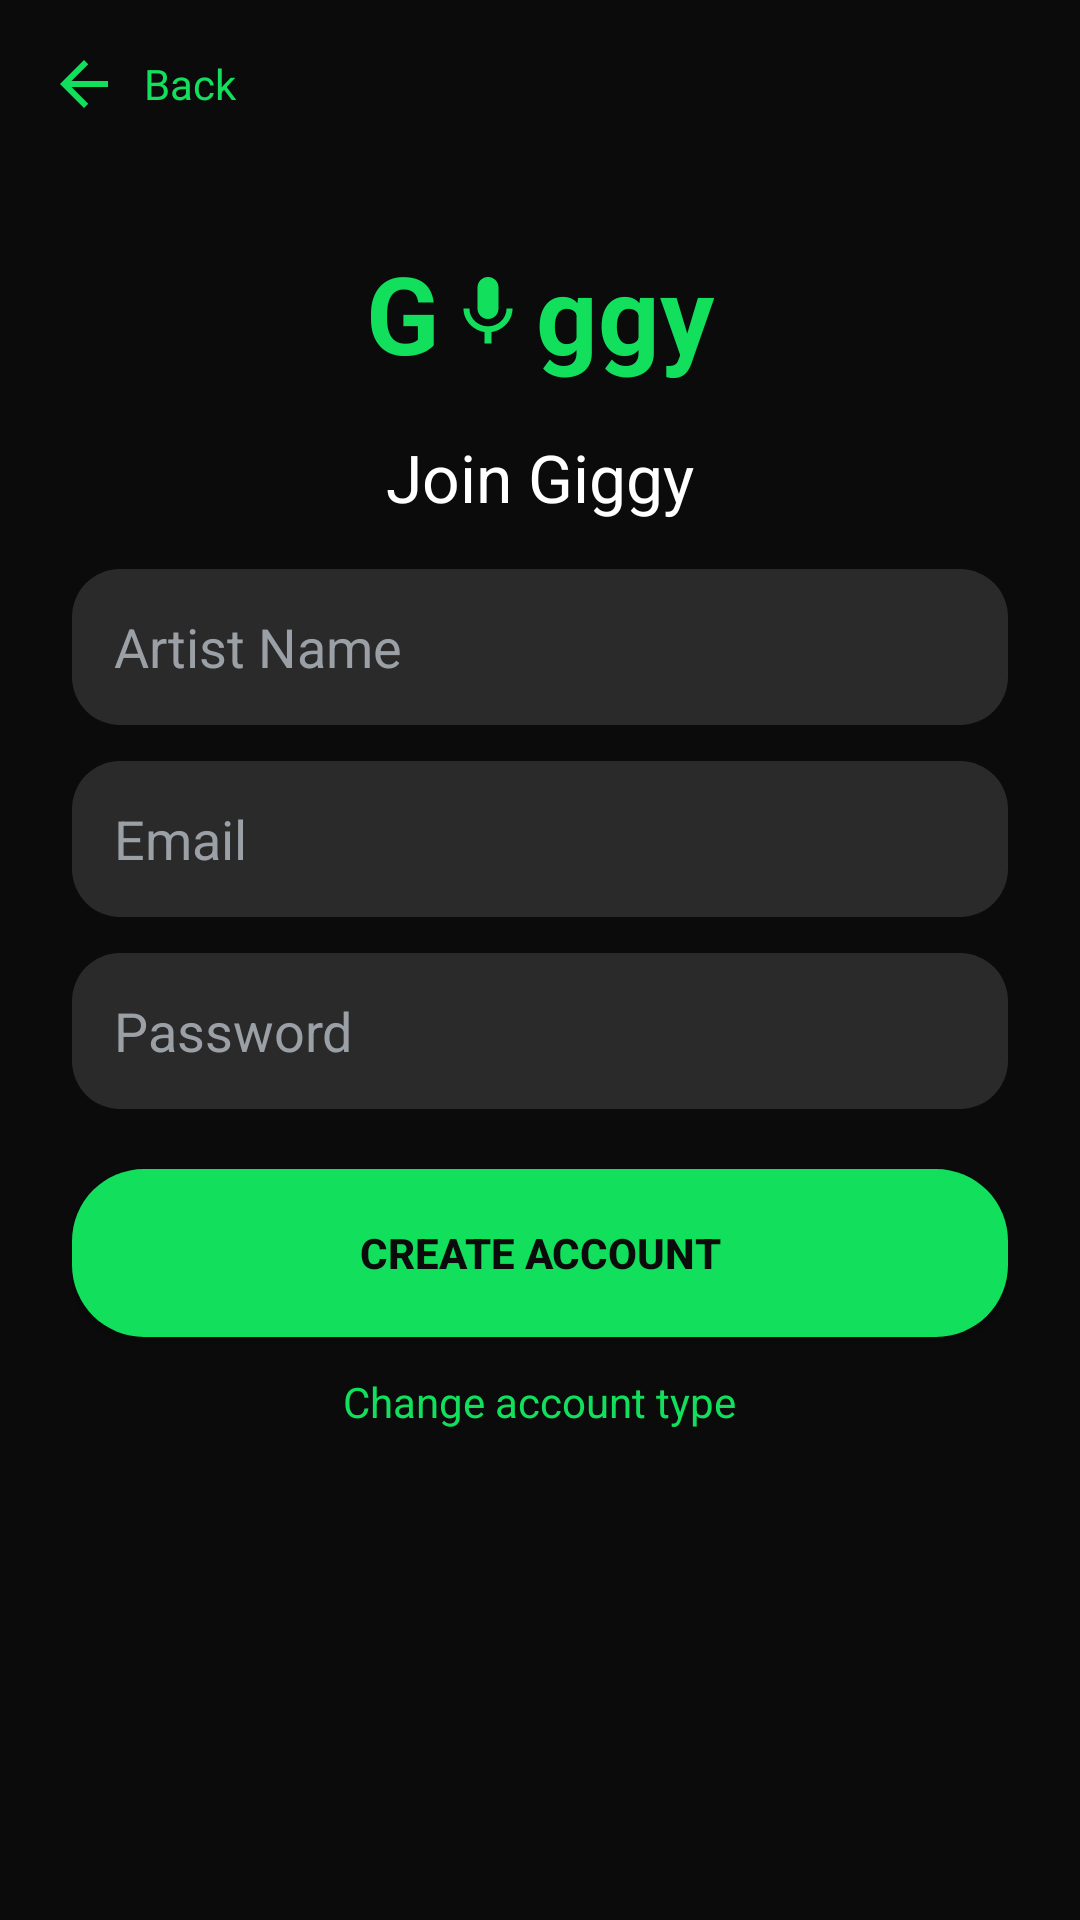

Icon bounding boxes for this 1080*1920 phone screenshot, format [x1=x1, y1=y1, x2=x2, y2=y2]:
mic: [x1=463, y1=277, x2=513, y2=344]
